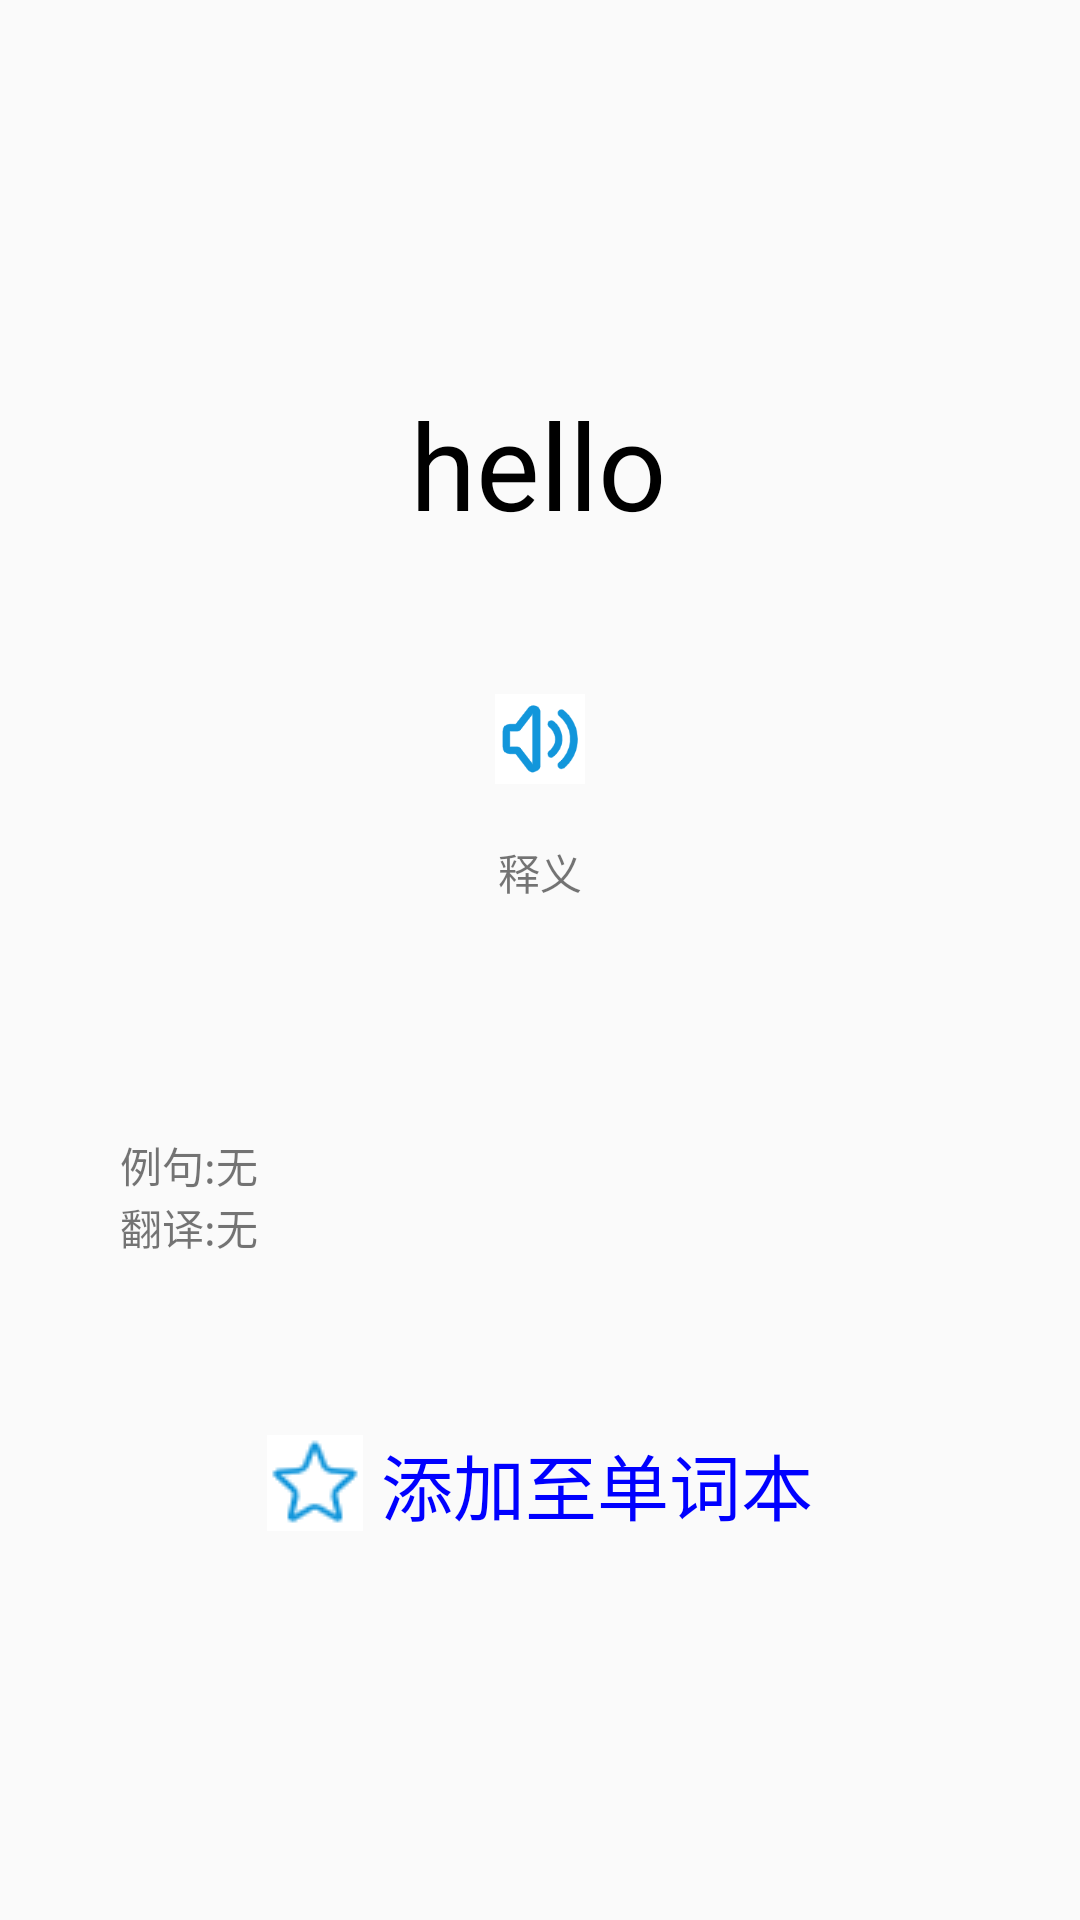

Icons on this 1080px x 1920px Android screen, each with its box as detection(x1, y1, x2, y2):
favor: detection(272, 1440, 358, 1523)
volume: detection(502, 705, 578, 773)
